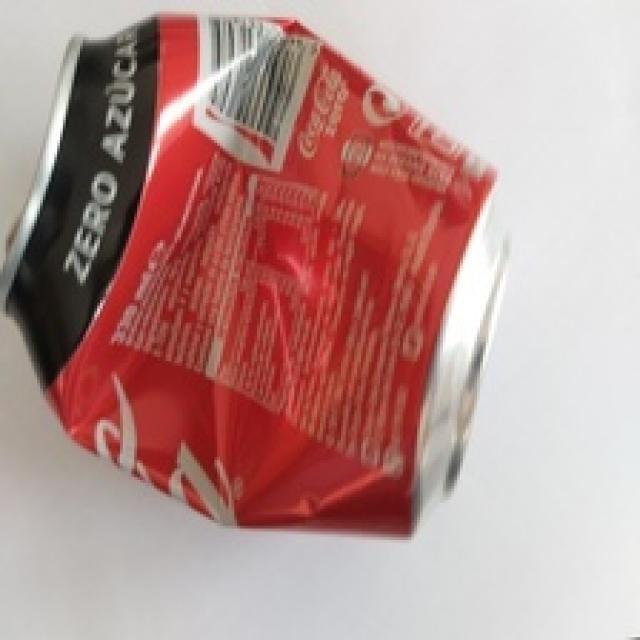recyclable: (0, 12, 507, 542)
